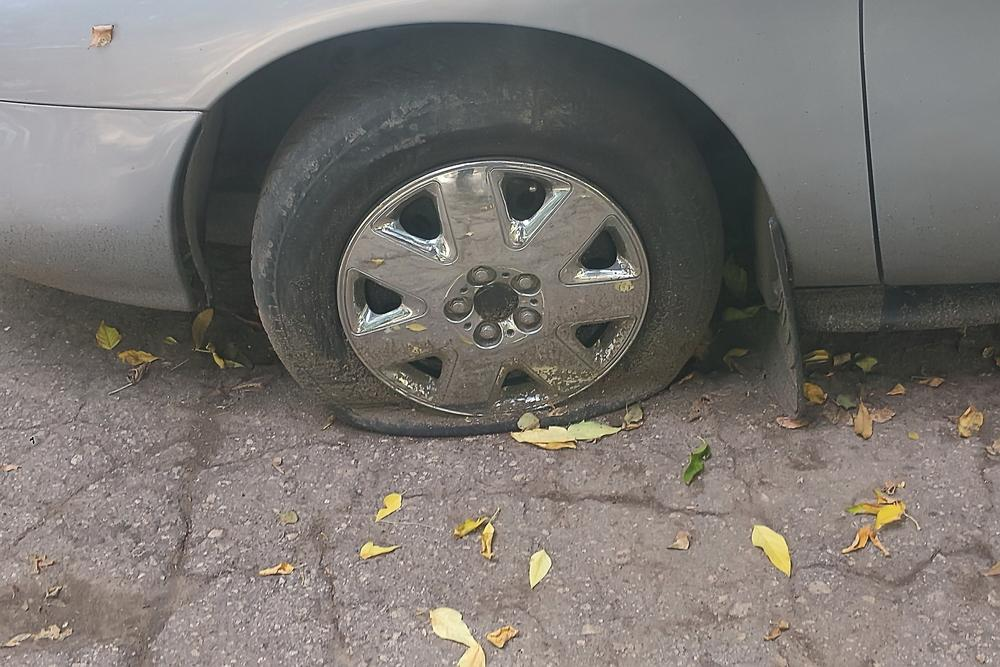tire flat: (251, 34, 722, 437)
